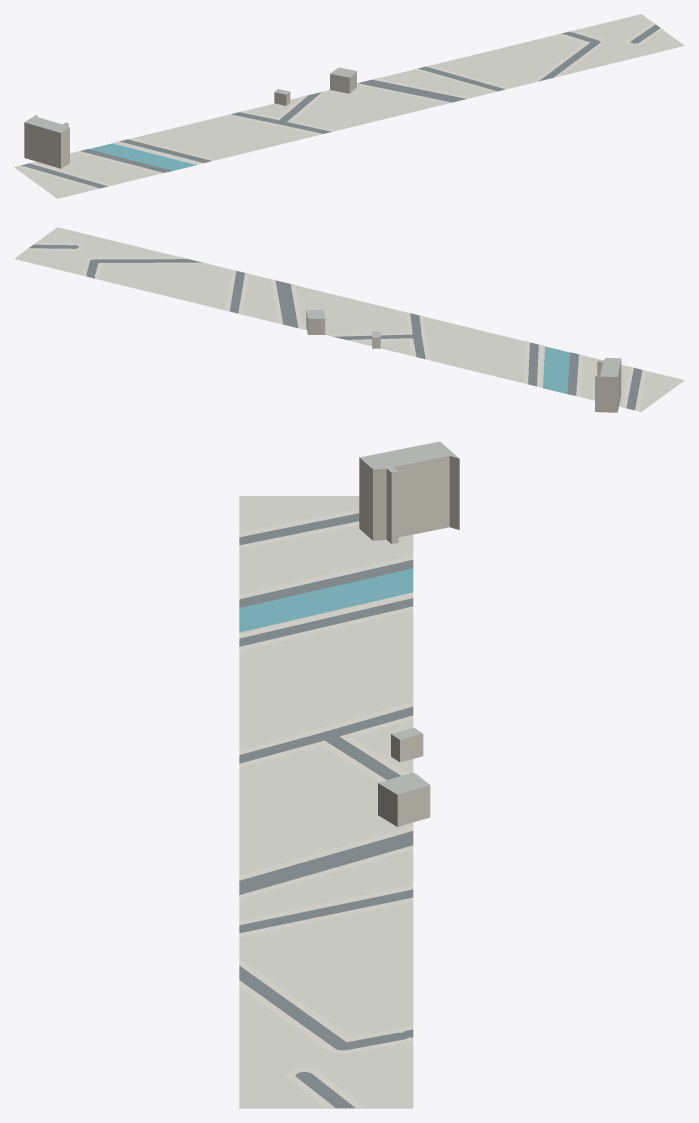
3 renders of one model, top to bottom at view 1: azimuth 30°, elevation 25°; view 2: azimuth 150°, elevation 25°; view 3: azimuth 270°, elevation 25°, orthographic. The views are drawn at different scales.
Visible parts, largest first — view 1: city; view 2: city; view 3: city.
Part boxes in pixels (box(x1,y1,x2,y2)): city: box(14, 14, 684, 198); city: box(14, 227, 684, 412); city: box(239, 441, 459, 1108).
Size of the model in its own units: 500 by 27.38 by 76.05.
